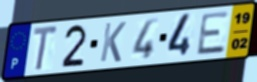2: (60, 23, 88, 69)
4: (166, 11, 195, 60), (131, 17, 157, 62)
E: (195, 10, 231, 57)
K: (98, 21, 128, 64)
T: (31, 24, 60, 74)
